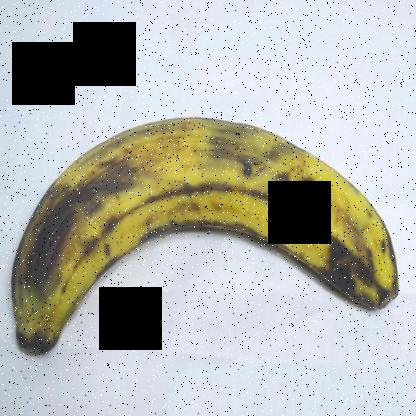overripe: (11, 93, 410, 360)
